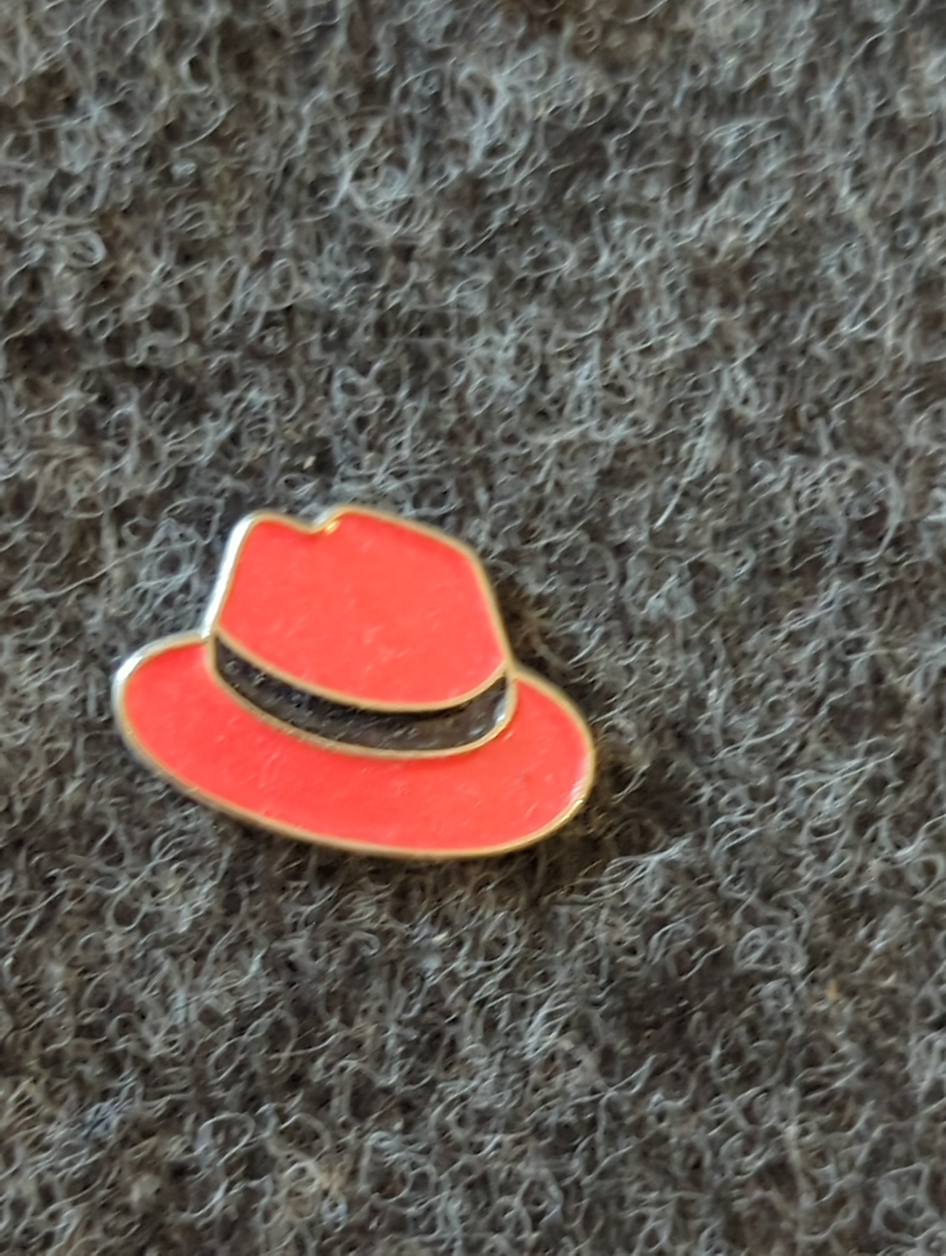Red-Hat: (39, 364, 693, 979)
